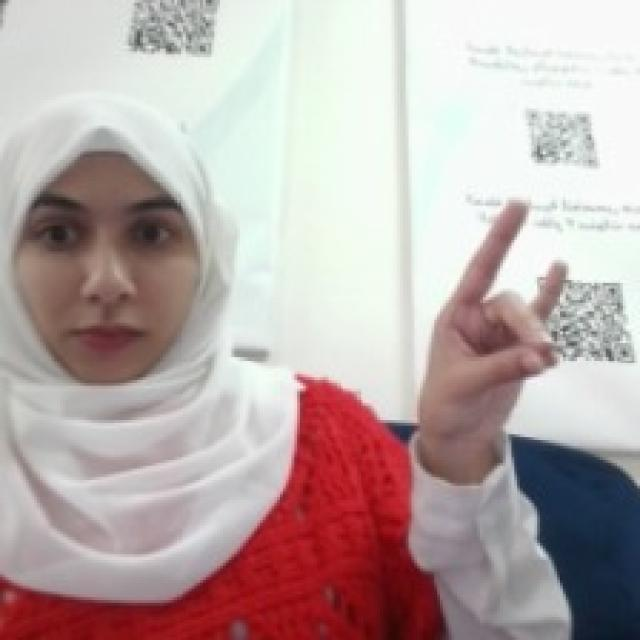Dog: (412, 188, 572, 448)
